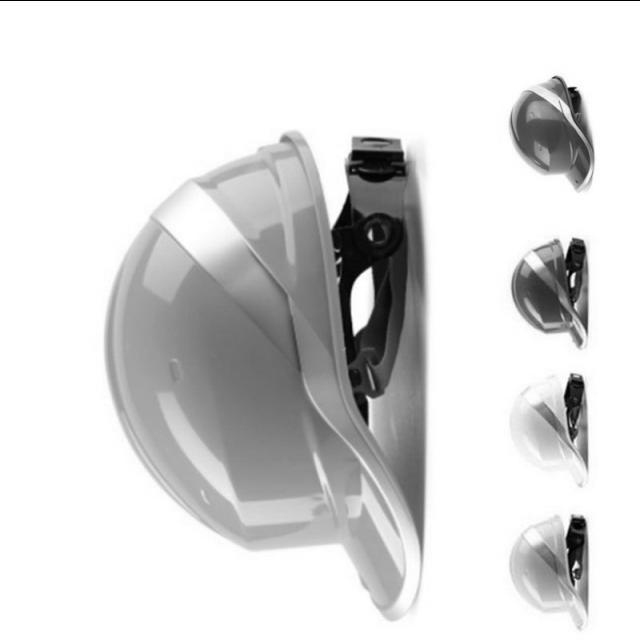safety_helmet: (106, 128, 425, 531)
